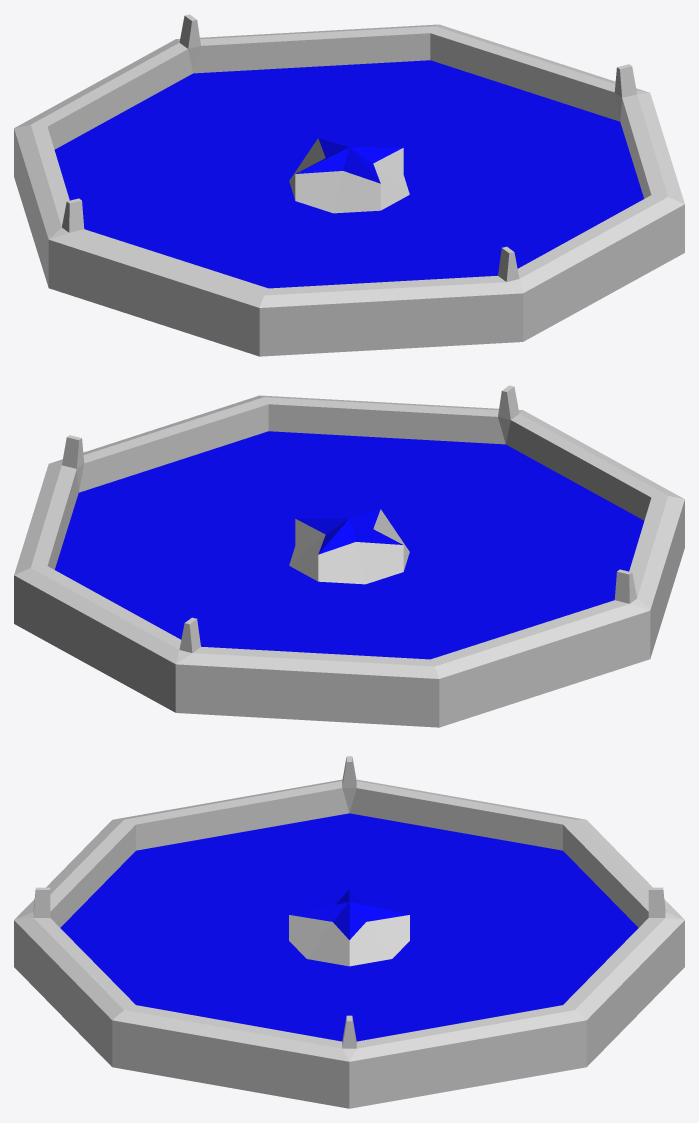
Rendered from Robot.glb.
3 renders of one model, top to bottom at view 1: azimuth 30°, elevation 25°; view 2: azimuth 150°, elevation 25°; view 3: azimuth 270°, elevation 25°, orthographic. The views are drawn at different scales.
Visible parts, largest first — view 1: Robot; view 2: Robot; view 3: Robot.
Boxes of the visible parts, x1=… form: Robot: x1=14, y1=14, x2=684, y2=356; Robot: x1=14, y1=385, x2=684, y2=727; Robot: x1=14, y1=756, x2=684, y2=1108.
Size of the model in its own units: 2.33 by 0.3 by 2.33.
